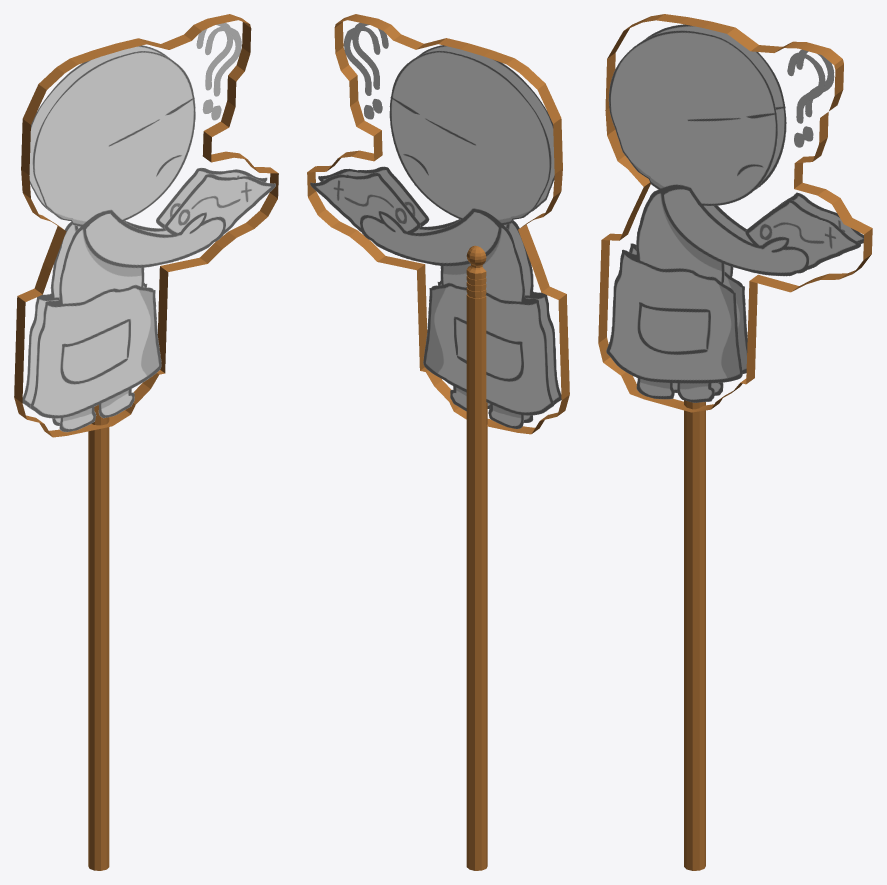
The model's file is Escena8_Persona1.fbx.
The picture shows the model from 3 angles, left to right: view 1: azimuth 30°, elevation 25°; view 2: azimuth 150°, elevation 25°; view 3: azimuth 330°, elevation 25°; orthographic projection. The views are drawn at different scales.
Visible parts, largest first — view 1: pCube2; view 2: pCube2; view 3: pCube2.
Part boxes in pixels (<box>): pCube2: <box>14,14,278,870</box>; pCube2: <box>307,14,569,870</box>; pCube2: <box>598,14,872,870</box>.
Size of the model in its own units: 4.6 by 14.08 by 0.4217.
